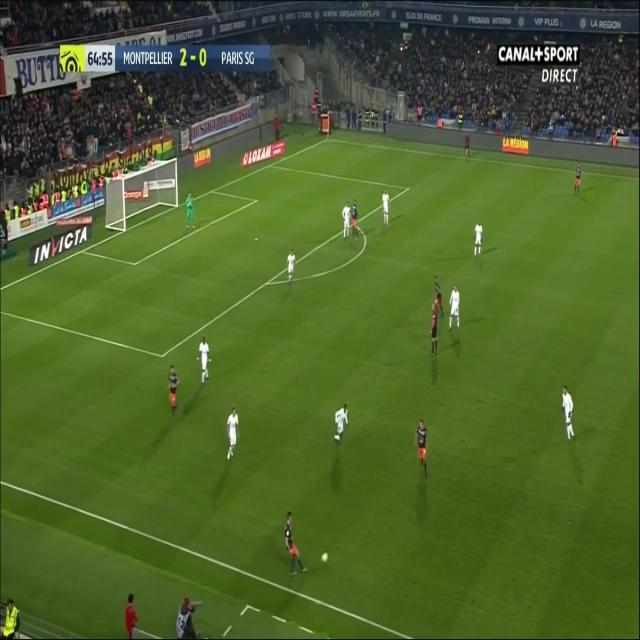Ball: (318, 548, 332, 570)
Goalkeeper: (184, 192, 196, 238)
Player: (283, 507, 307, 578), (222, 402, 242, 464), (559, 381, 578, 446), (166, 360, 183, 425), (414, 417, 429, 486), (195, 333, 213, 390), (330, 400, 351, 447), (448, 282, 463, 337), (351, 196, 362, 248), (431, 271, 444, 312), (286, 248, 298, 290), (472, 218, 484, 260), (572, 161, 585, 198), (381, 188, 392, 230), (341, 203, 352, 243)
Referee: (427, 304, 438, 358), (462, 131, 473, 162)
